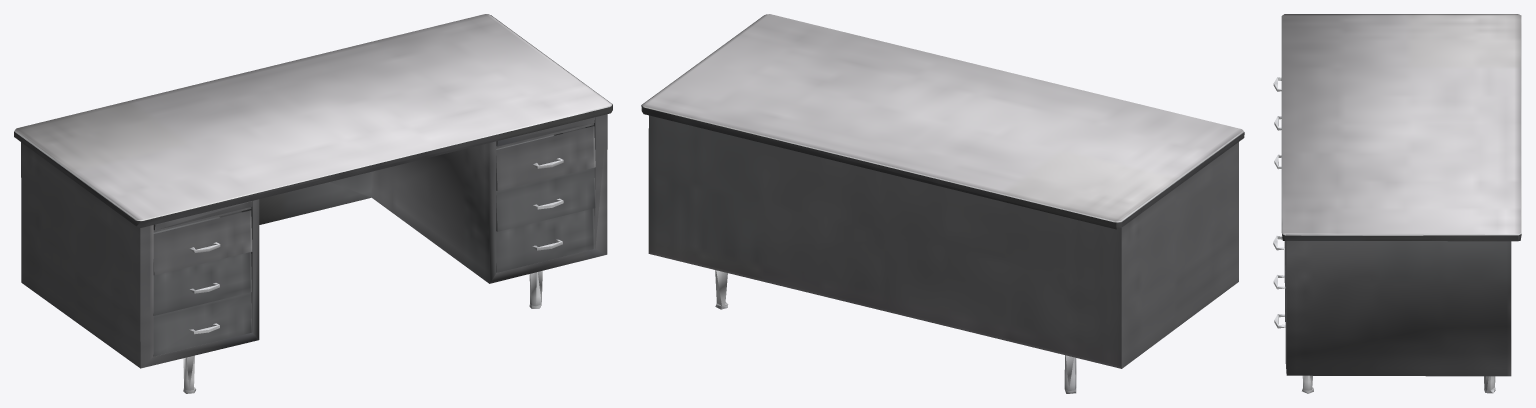
File: desk_office_metal.glb
The picture shows the model from 3 angles, left to right: view 1: azimuth 30°, elevation 25°; view 2: azimuth 150°, elevation 25°; view 3: azimuth 270°, elevation 25°; orthographic projection. The views are drawn at different scales.
Parts seen in each view (by area): view 1: prop; view 2: prop; view 3: prop.
Boxes of the visible parts, x1=… form: prop: x1=14, y1=14, x2=612, y2=393; prop: x1=641, y1=14, x2=1244, y2=393; prop: x1=1273, y1=14, x2=1521, y2=393.
Size of the model in its own units: 1.5 by 0.5902 by 0.7111.
Materials: 1 (1 with a texture image).
